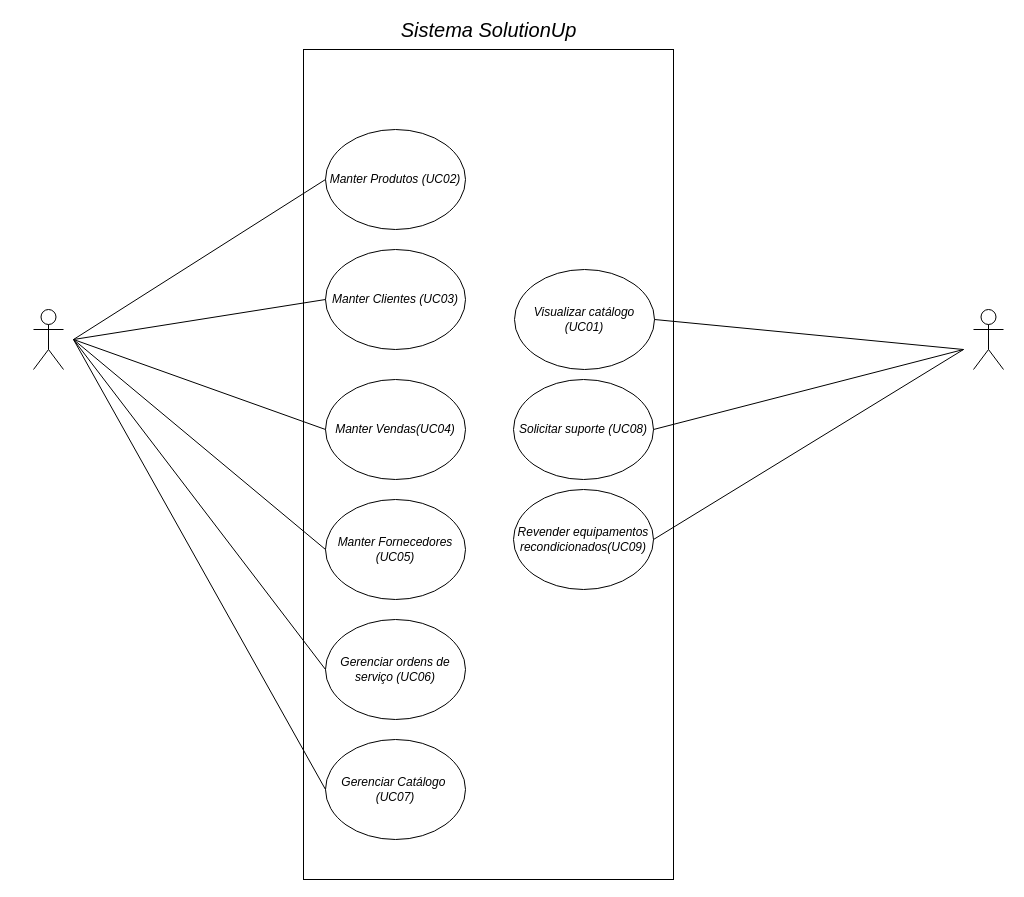
This 1024x897 diagram has some shape labels left out. The shapes that lost their labels are listed below. From the top down, each one's box as (x1, y1, x2, y2) in pixels, then its label:
(32, 308, 64, 370): Funcionário
(972, 308, 1004, 370): Cliente
